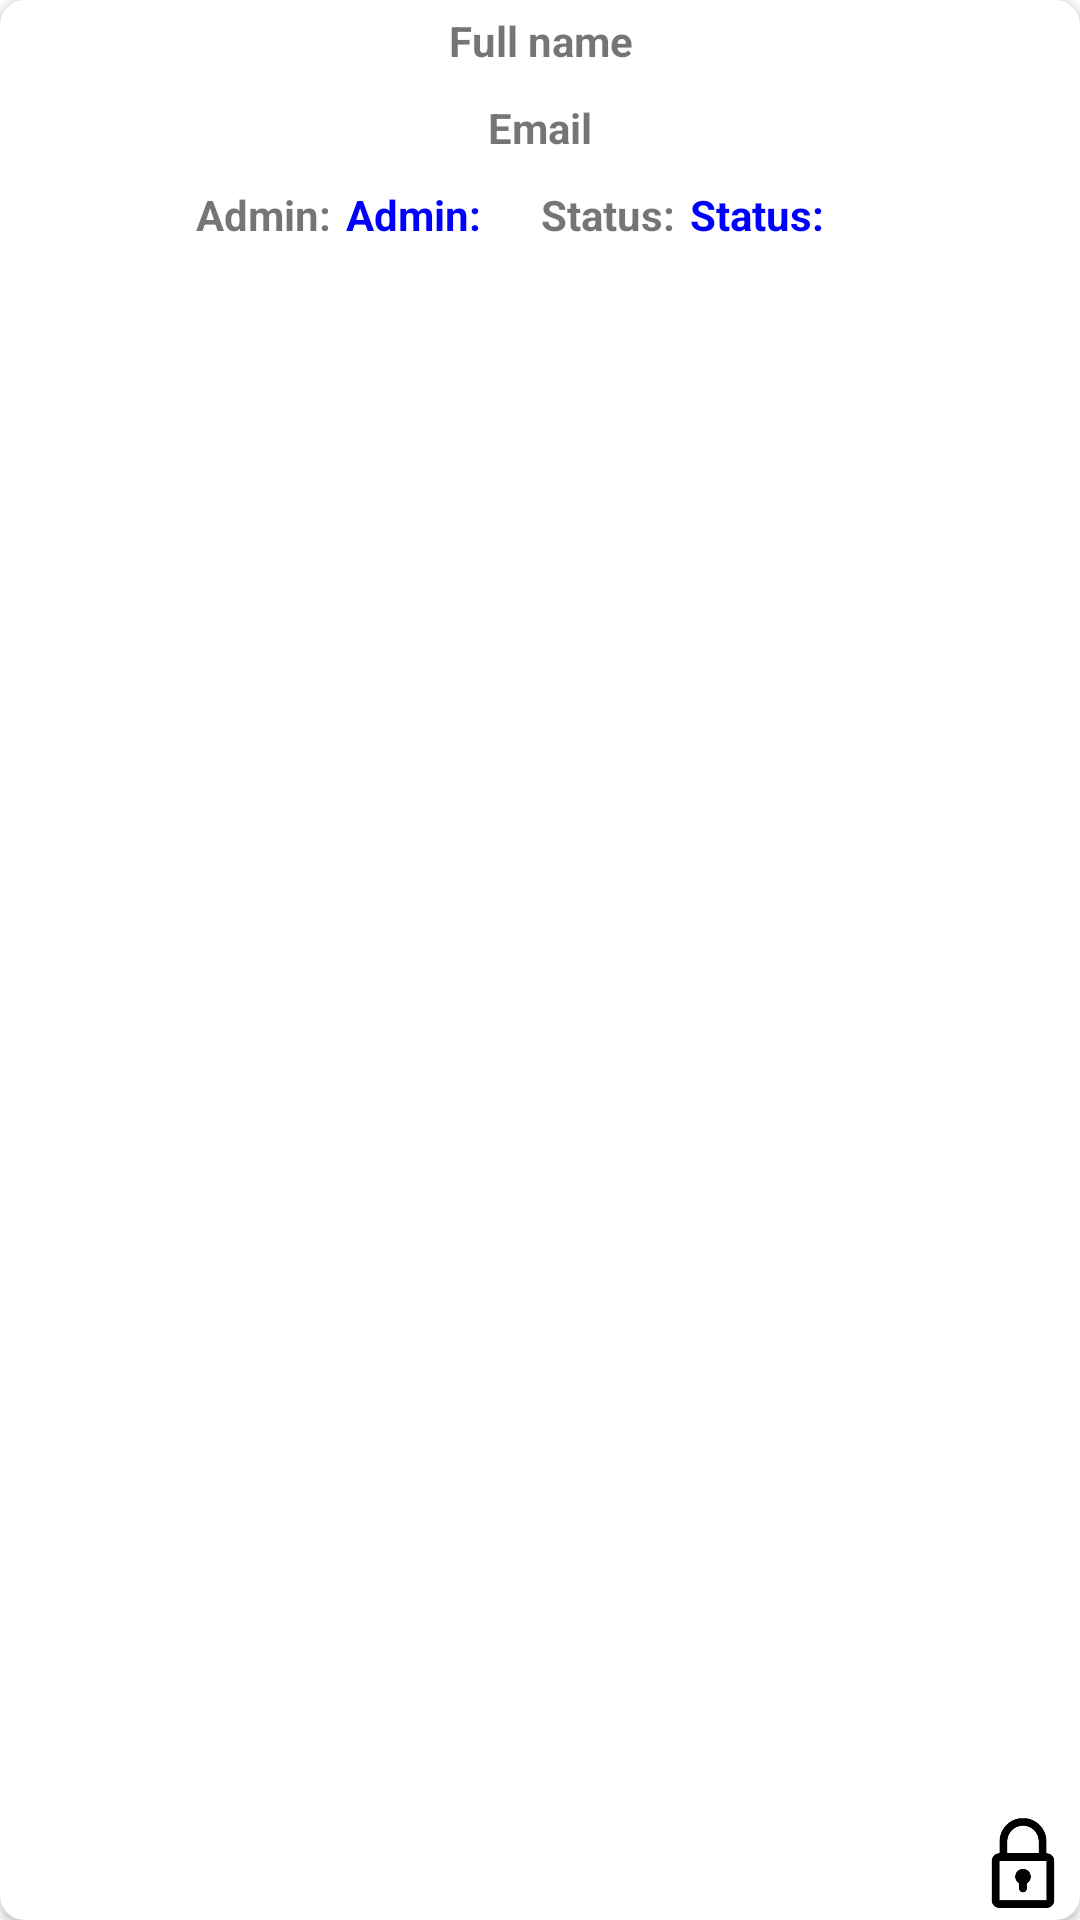

Point at icon controls on the screen. Image size 1080w x 1920h, points as (x=x, y=y).
Change user status: (x=1023, y=1863)
